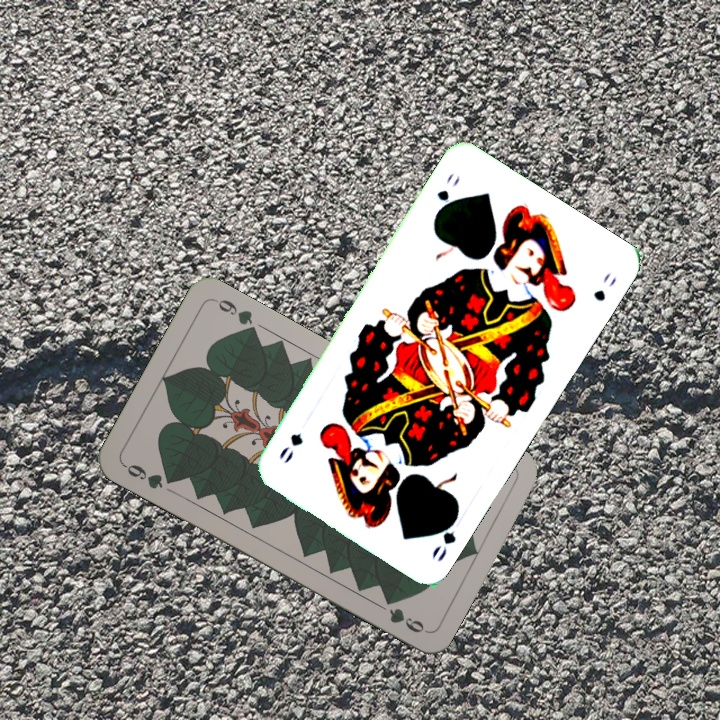G9: (119, 460, 178, 492)
GO: (428, 508, 462, 565), (431, 169, 463, 220)
